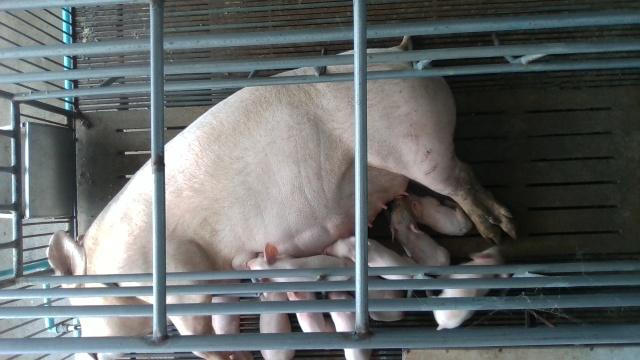piglet: (434, 244, 503, 331), (390, 196, 451, 266), (248, 243, 355, 280), (324, 237, 415, 280), (327, 291, 374, 360), (260, 292, 296, 360)
sow-sleep-lactate: (47, 47, 517, 335)
